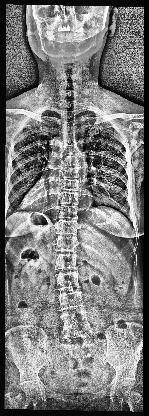Vertebrae: (56, 290, 86, 310), (63, 326, 93, 342), (56, 273, 81, 291), (61, 312, 93, 326), (56, 236, 80, 254), (55, 218, 79, 235), (56, 254, 78, 272), (60, 206, 80, 220), (62, 156, 80, 168), (64, 179, 82, 191), (64, 168, 81, 180), (62, 142, 78, 154), (62, 192, 78, 204), (62, 131, 78, 143), (62, 120, 78, 132)
